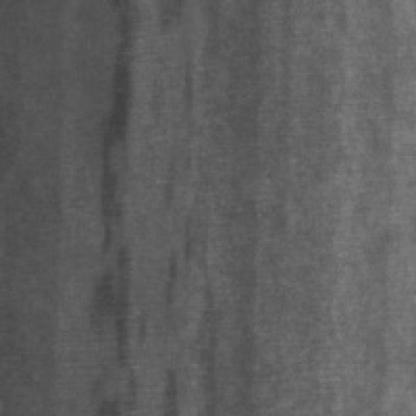inclusion: (122, 10, 202, 410), (84, 0, 152, 368)
